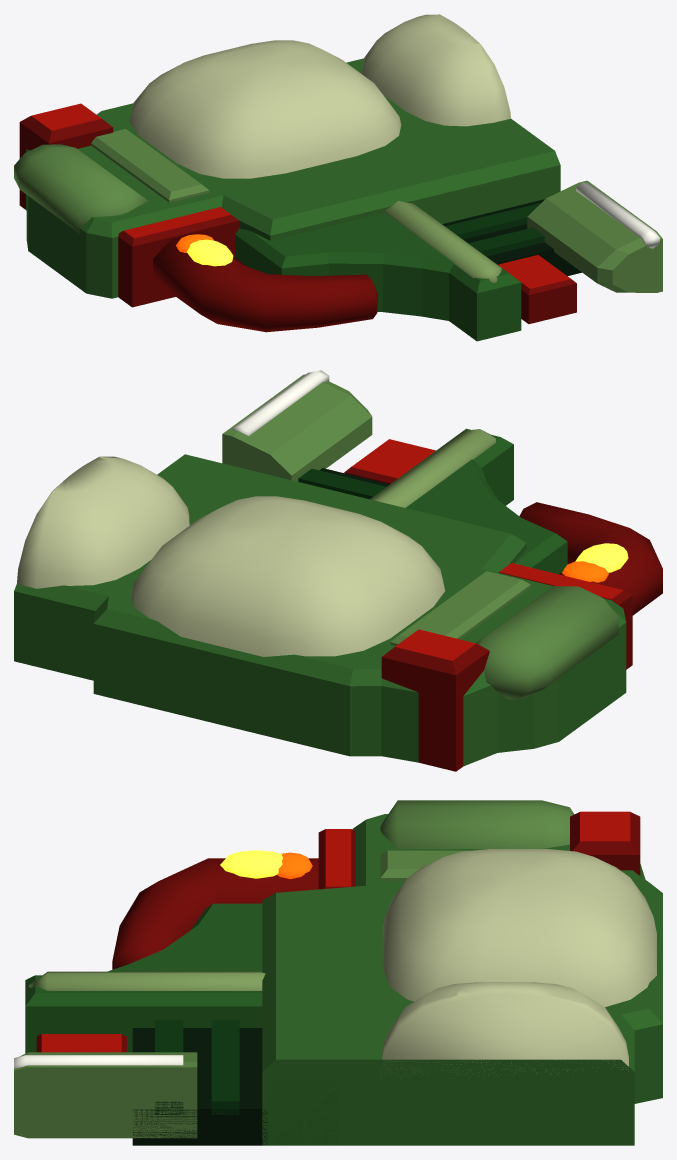
The model's file is newshj-13.glb.
The picture shows the model from 3 angles, top to bottom: view 1: azimuth 30°, elevation 25°; view 2: azimuth 150°, elevation 25°; view 3: azimuth 270°, elevation 25°; orthographic projection. The views are drawn at different scales.
Parts seen in each view (by area): view 1: newshj-13; view 2: newshj-13; view 3: newshj-13.
Part boxes in pixels (<box>): newshj-13: <box>14,14,662,341</box>; newshj-13: <box>14,370,662,771</box>; newshj-13: <box>14,800,662,1145</box>.
Size of the model in its own units: 1.76 by 0.52 by 1.92.
